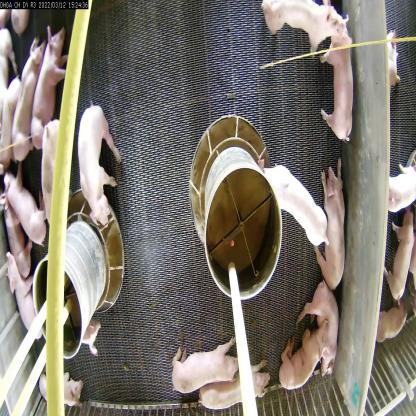Pig: (248, 143, 331, 256), (318, 0, 367, 168), (72, 95, 126, 238), (255, 0, 347, 63), (30, 22, 72, 158), (2, 242, 51, 352), (166, 334, 245, 400), (296, 278, 346, 382), (2, 162, 53, 260), (271, 315, 331, 393), (11, 35, 48, 161), (192, 359, 275, 415), (36, 112, 70, 236), (384, 204, 416, 305), (378, 21, 416, 92), (36, 365, 93, 411), (379, 153, 416, 223), (69, 314, 115, 362), (373, 304, 412, 352)
